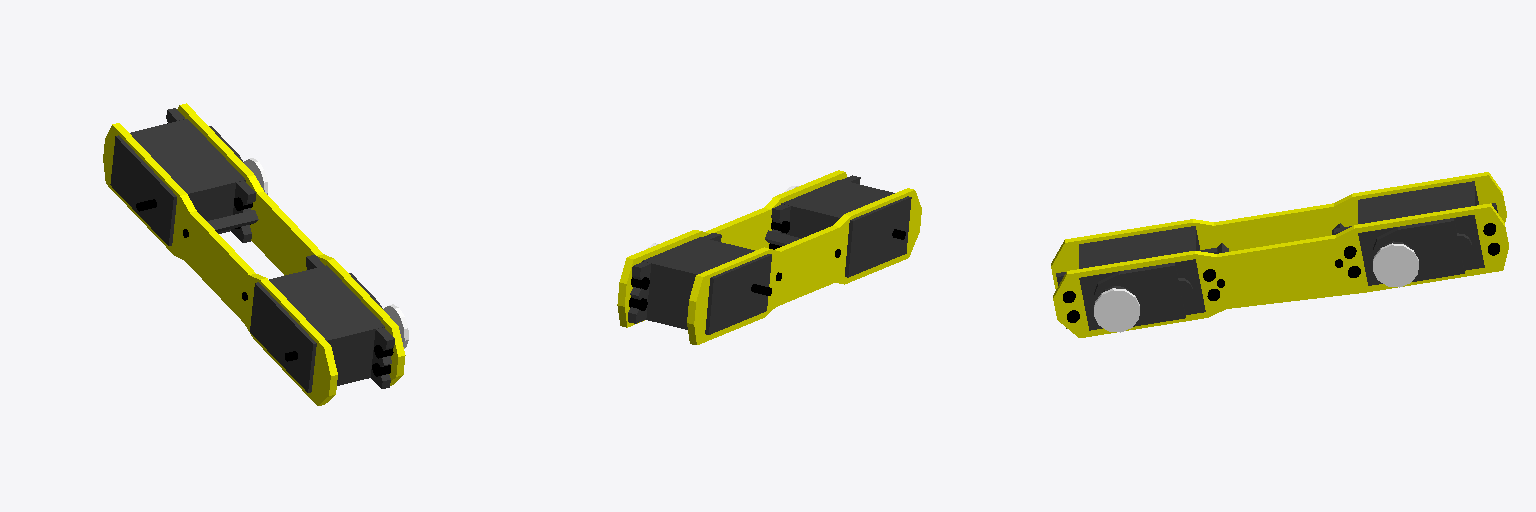
Rendered from arm2.obj.
The picture shows the model from 3 angles: view 1: azimuth 30°, elevation 25°; view 2: azimuth 150°, elevation 25°; view 3: azimuth 270°, elevation 25°; orthographic projection.
Parts seen in each view (by area): view 1: box[number redacted], box[number redacted], block00078, block00079, block00062, block00084, box[number redacted]; view 2: block00078, box[number redacted], box[number redacted], block00079, block00086; view 3: block00079, block00078, box[number redacted], box[number redacted], block00065, block00087, cylinder60, cylinder81.
Boxes of the visible parts, x1,y1,x2,y2 form: box[number redacted]: [250, 265, 384, 392]; box[number redacted]: [110, 119, 245, 245]; block00078: [103, 123, 337, 405]; block00079: [177, 103, 405, 385]; block00062: [371, 327, 394, 388]; block00084: [231, 181, 255, 242]; box[number redacted]: [207, 210, 258, 231]; block00078: [687, 188, 921, 344]; box[number redacted]: [642, 237, 771, 334]; box[number redacted]: [781, 180, 911, 277]; block00079: [617, 170, 846, 327]; block00086: [628, 262, 650, 323]; block00079: [1053, 203, 1508, 337]; block00078: [1051, 172, 1506, 288]; box[number redacted]: [1358, 181, 1484, 285]; box[number redacted]: [1079, 226, 1205, 330]; block00065: [1094, 263, 1185, 326]; block00087: [1373, 218, 1464, 281]; cylinder60: [1094, 288, 1139, 332]; cylinder81: [1373, 243, 1418, 287].
Size of the model in its own units: 0.3043 by 0.3248 by 1.01.